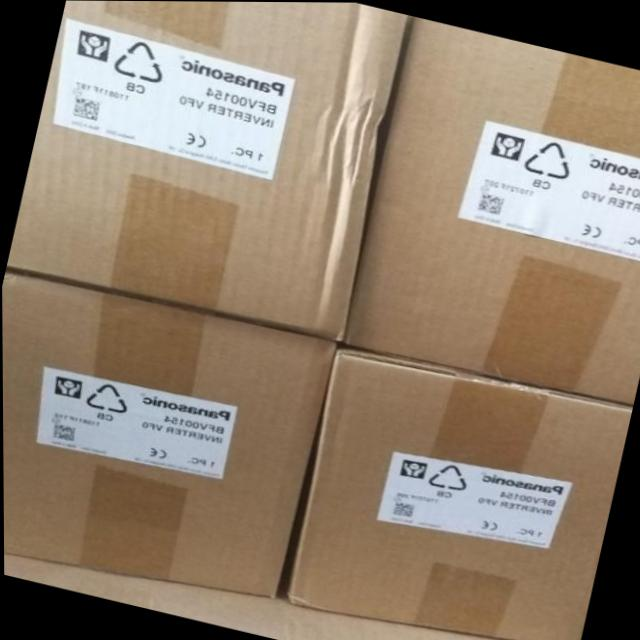box: (7, 0, 406, 337), (341, 17, 640, 403), (2, 269, 340, 594), (281, 348, 632, 640)
